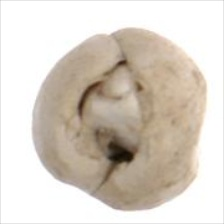L3: (78, 60, 150, 166)
L4: (32, 25, 208, 211)
